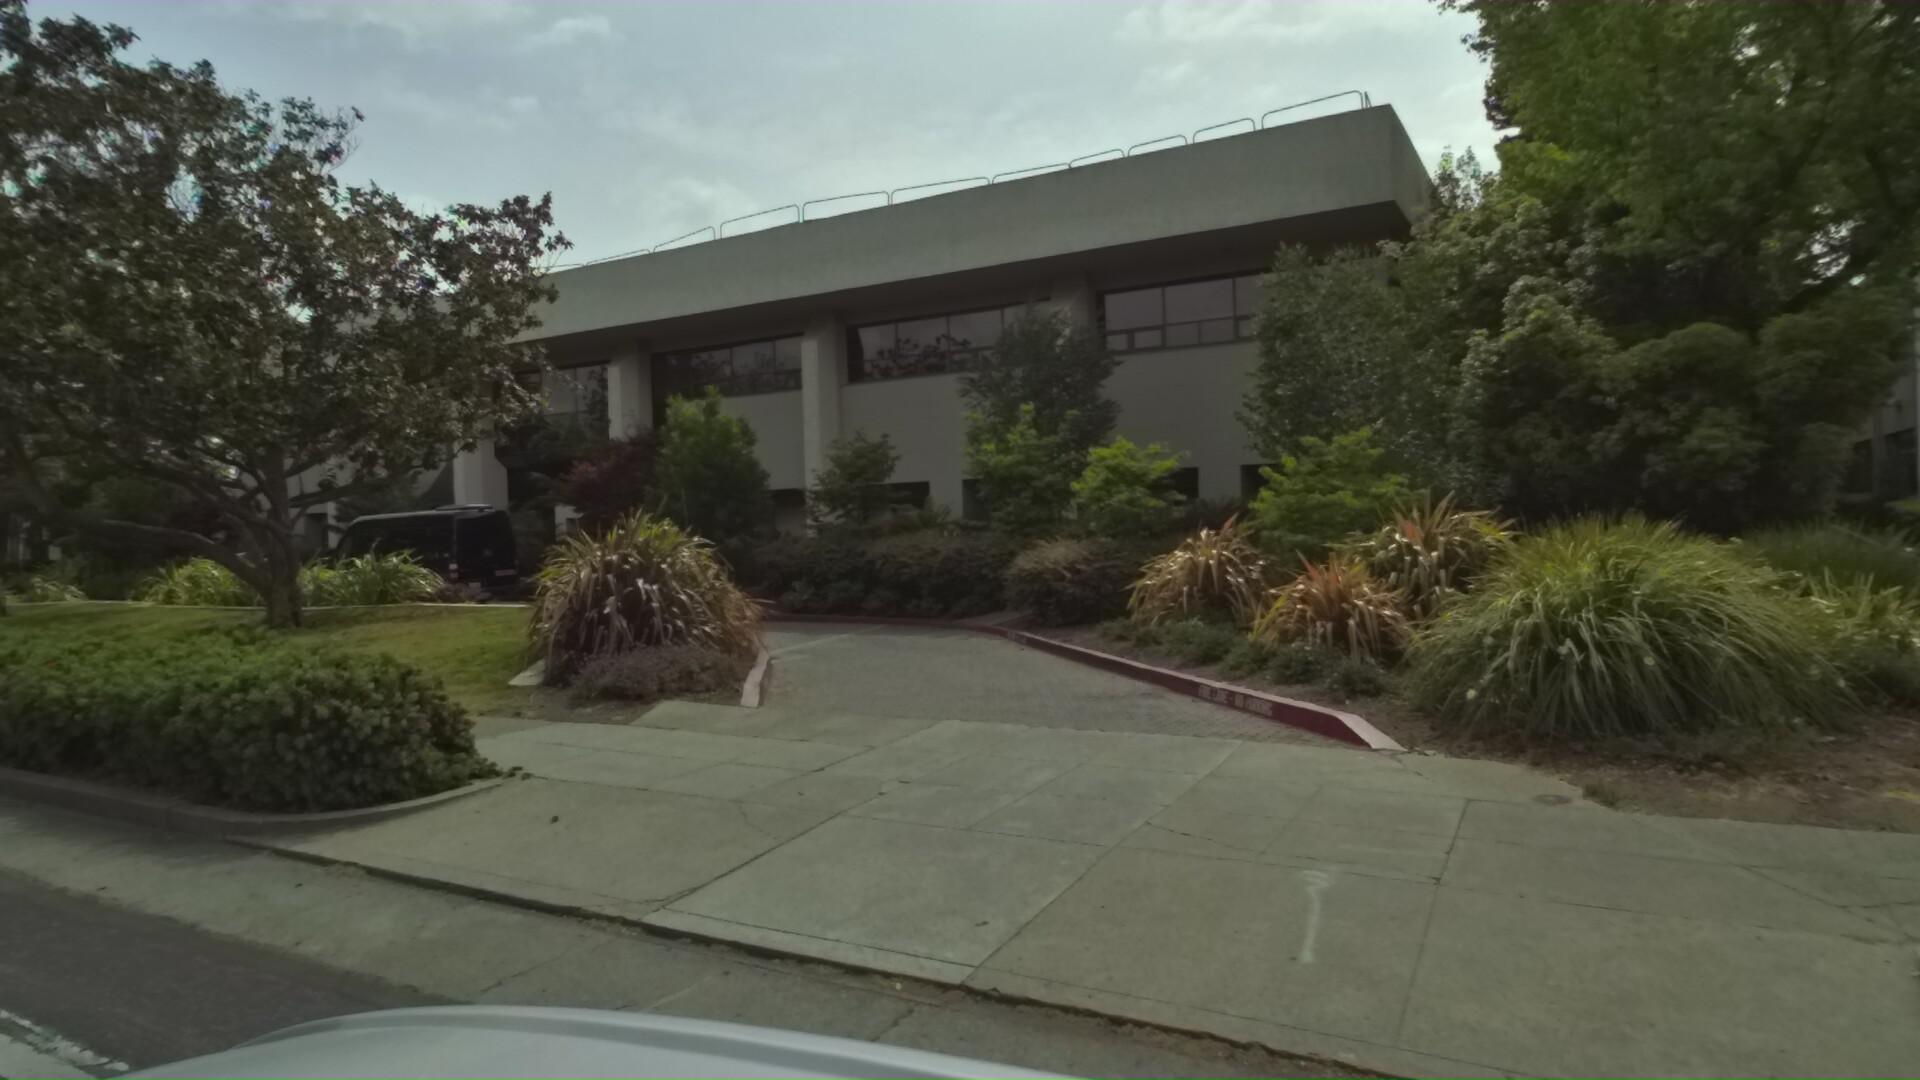car: (307, 493, 541, 608)
